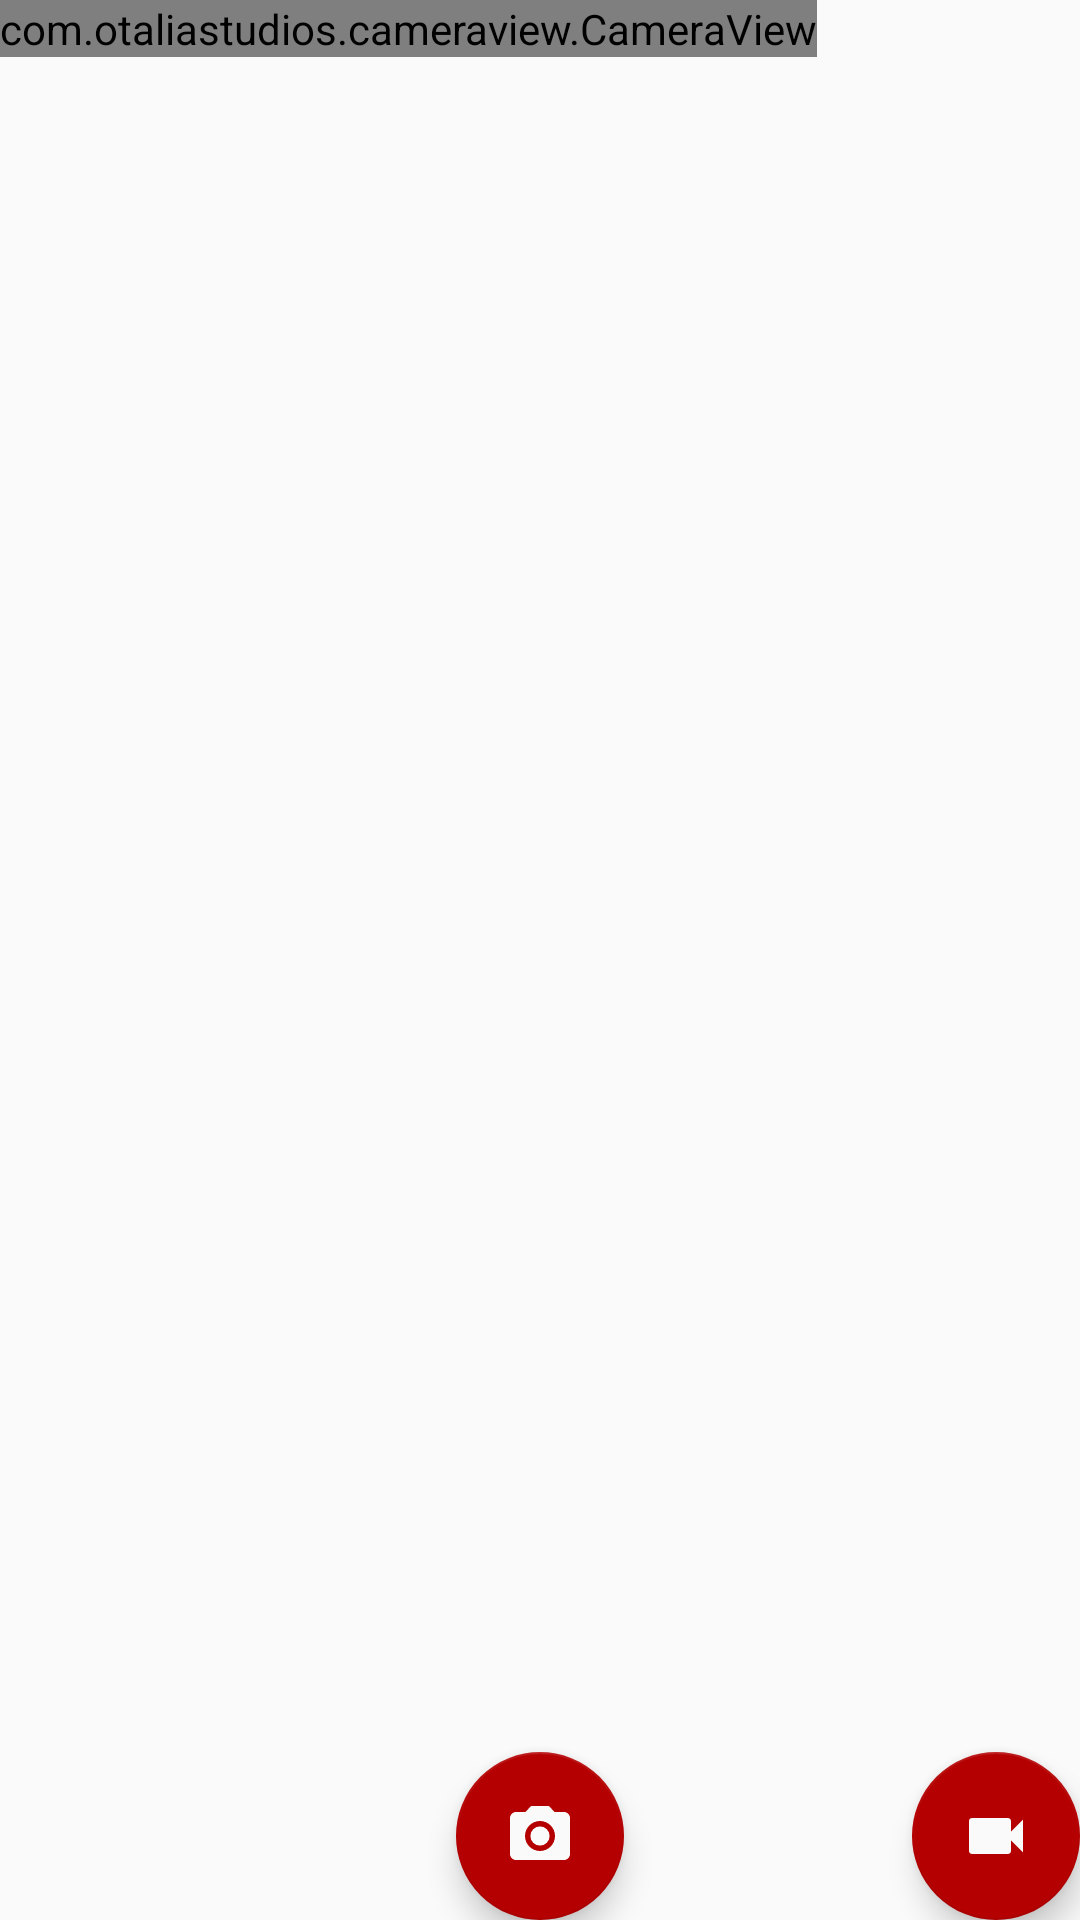

Icons on this 1080 × 1920 Android screen, each with the point to tap as (x,y):
photo camera: (540,1836)
videocam: (996,1836)
